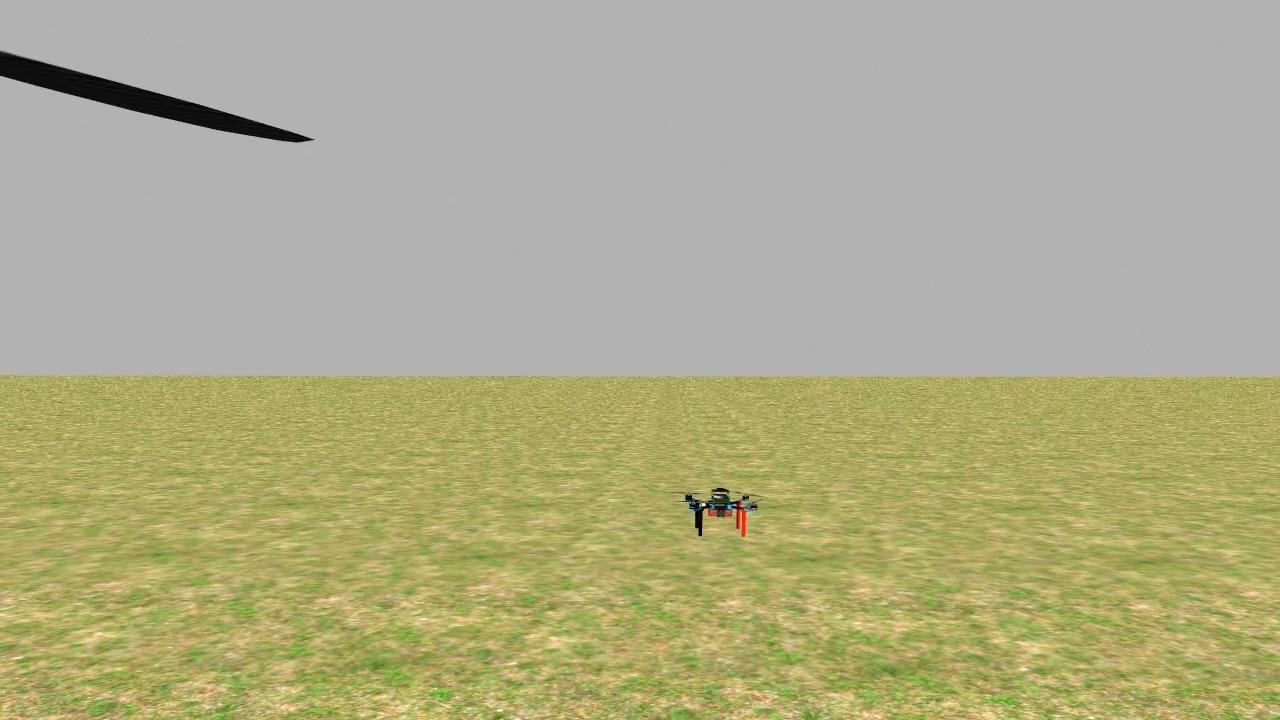UAV: (671, 473, 772, 548)
